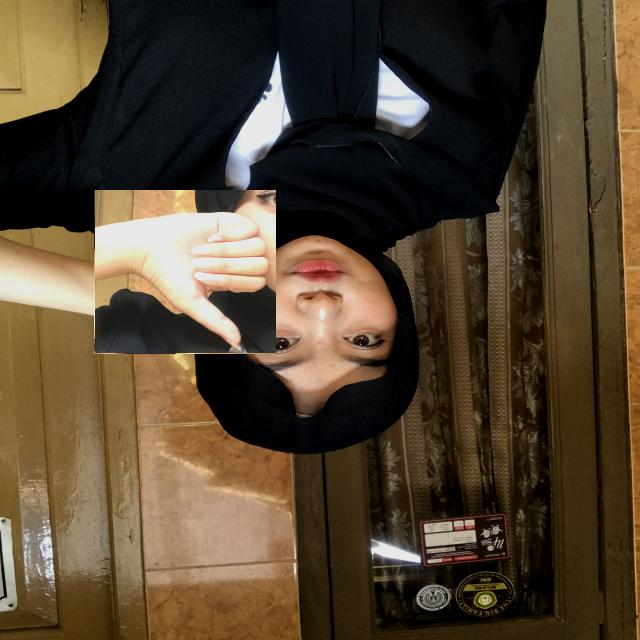sedih: (94, 190, 276, 354)
